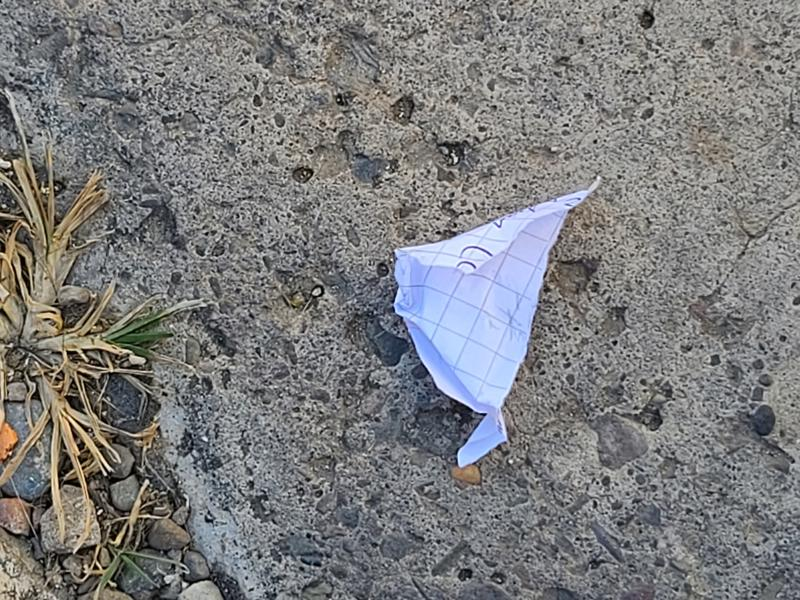papel: (392, 188, 594, 468)
